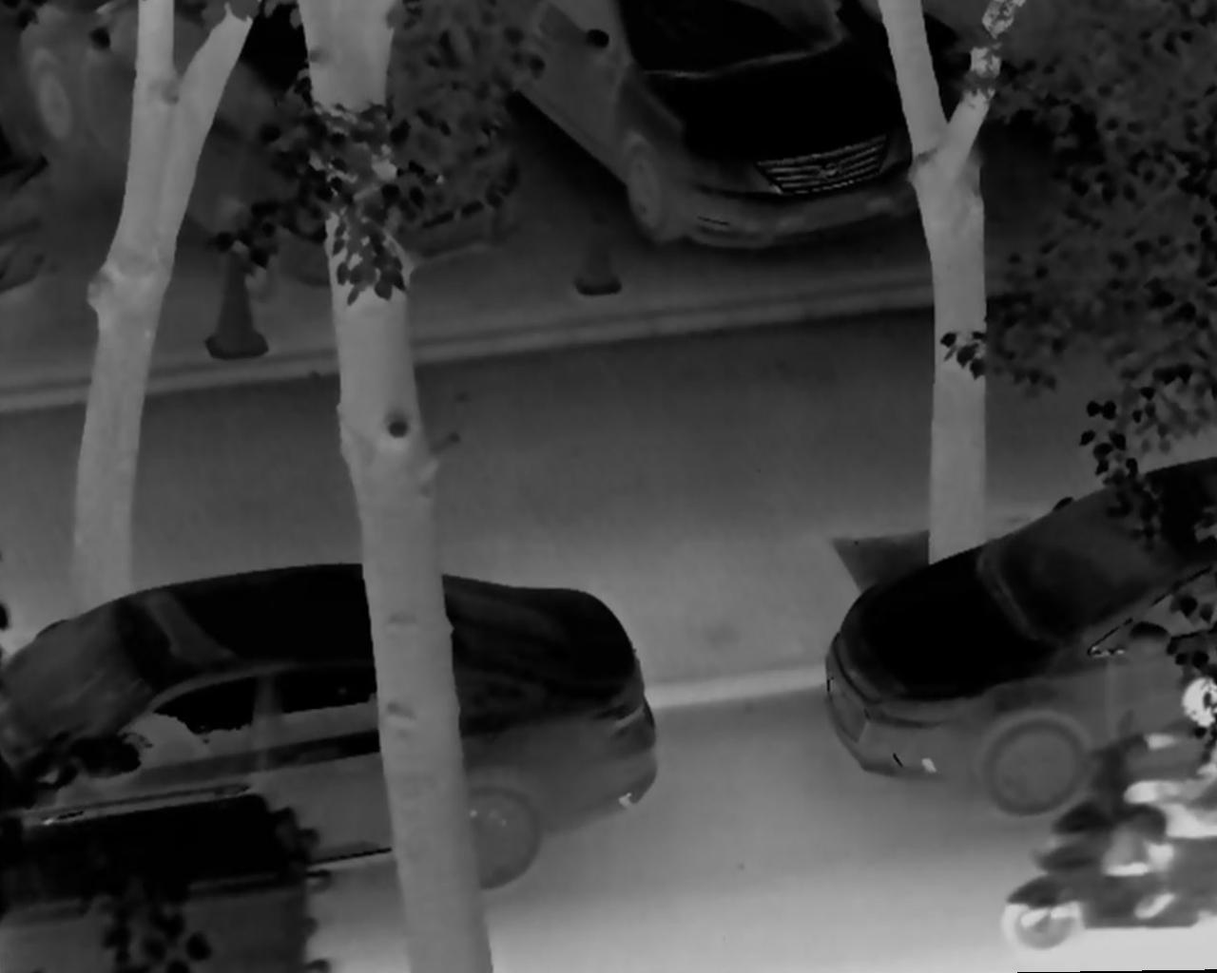person: (1103, 678, 1217, 923)
